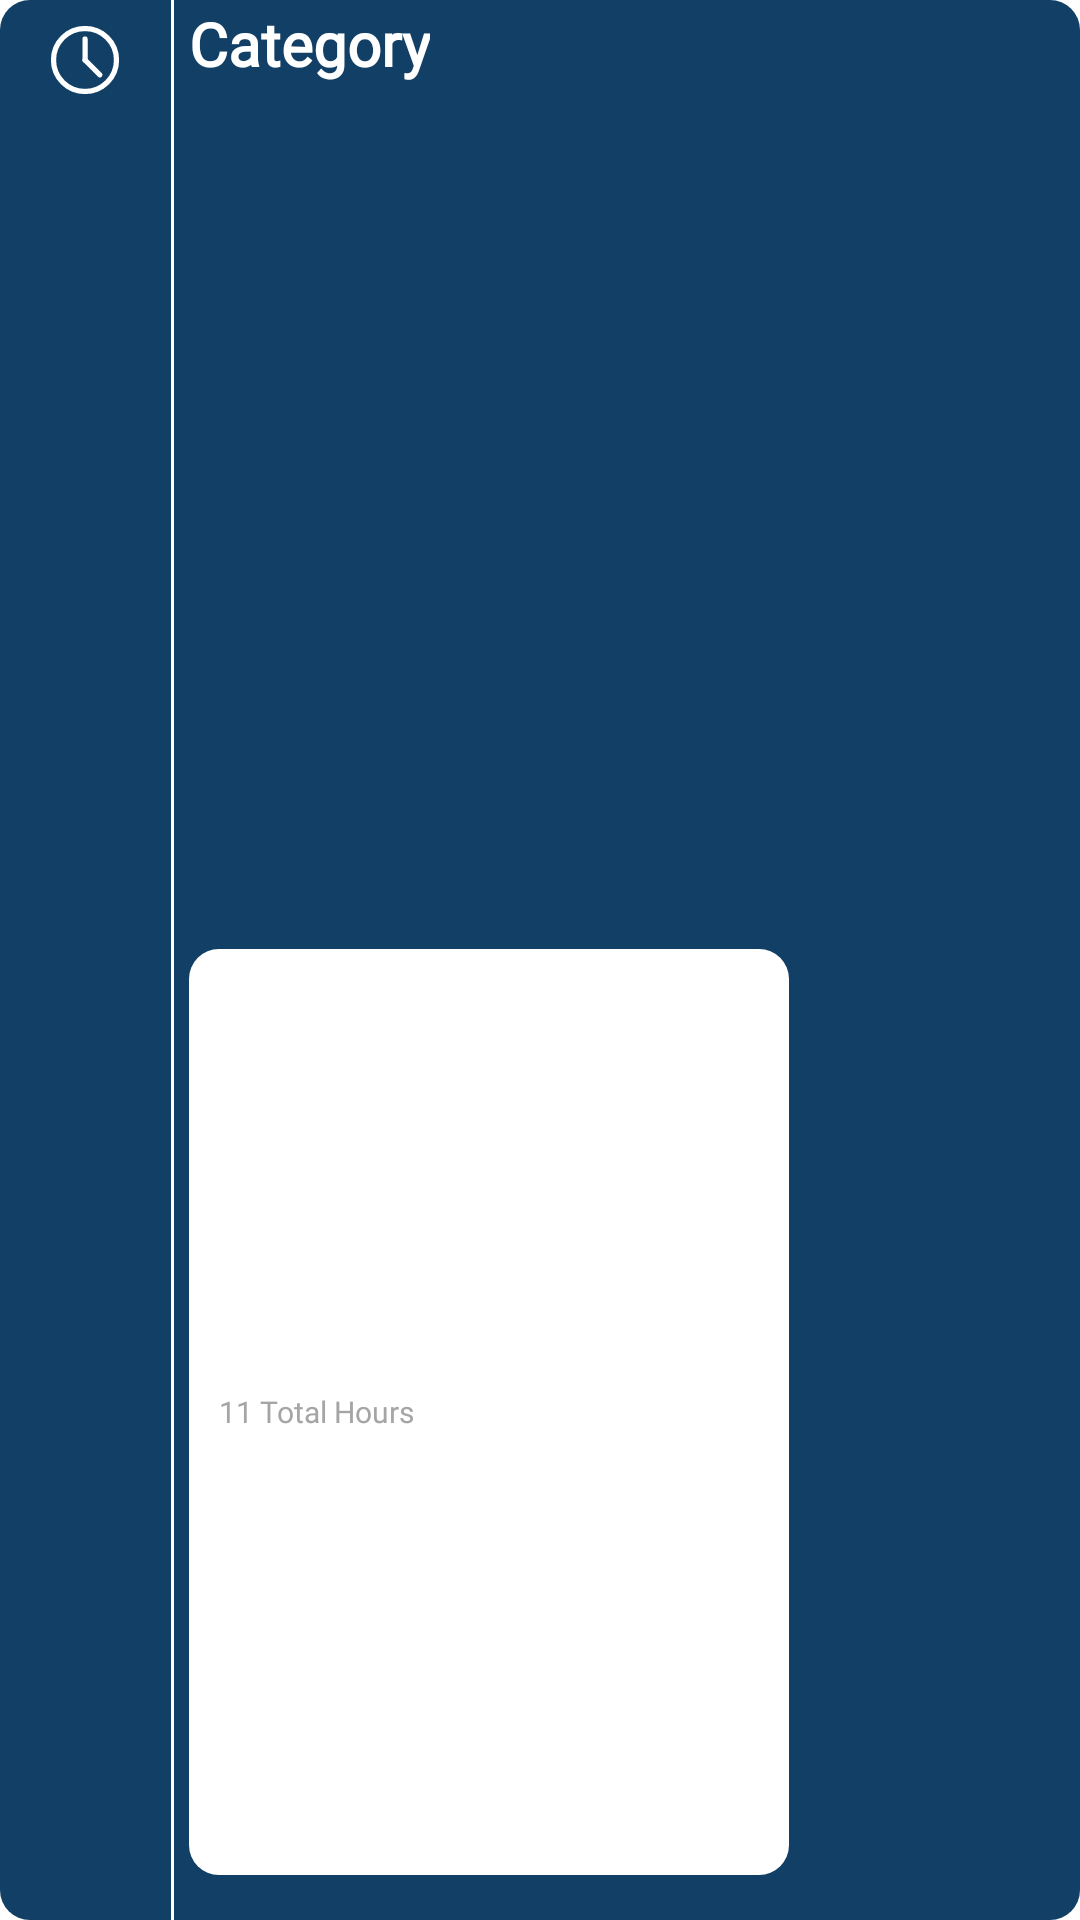

Point at icon controls on the screen. Image size 1080x1920, points as (x,y).
time: (85,60)
